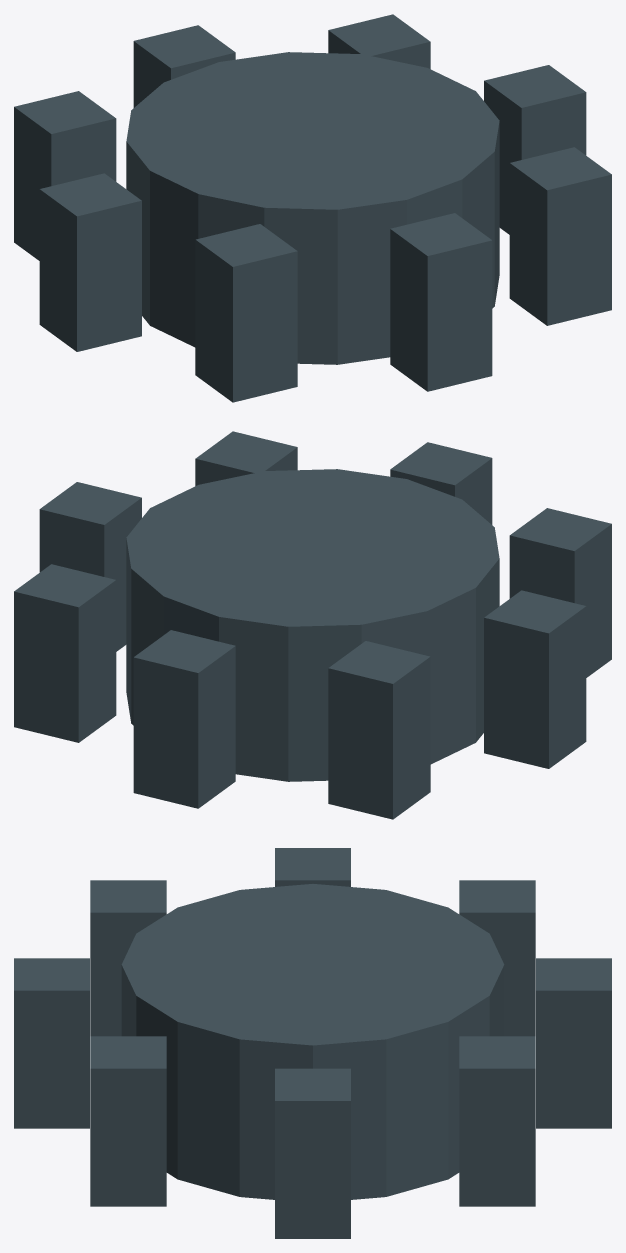
File: set_hub_cap.glb
The picture shows the model from 3 angles, top to bottom: view 1: azimuth 30°, elevation 25°; view 2: azimuth 150°, elevation 25°; view 3: azimuth 270°, elevation 25°; orthographic projection.
Visible parts, largest first — view 1: set_hub_cap; view 2: set_hub_cap; view 3: set_hub_cap.
Boxes of the visible parts, x1,y1,x2,y2 form: set_hub_cap: (14, 14, 611, 402); set_hub_cap: (14, 431, 611, 819); set_hub_cap: (14, 848, 611, 1238).
Size of the model in its own units: 0.275 by 0.08 by 0.275.
